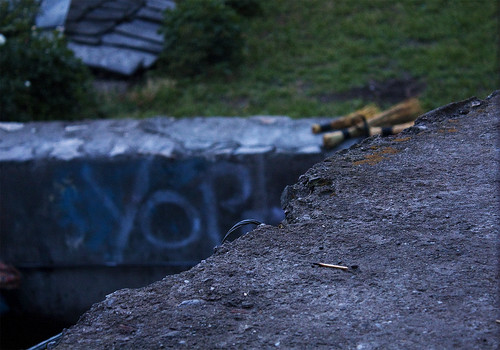graffiti: (57, 163, 305, 260)
grass: (189, 1, 486, 112)
